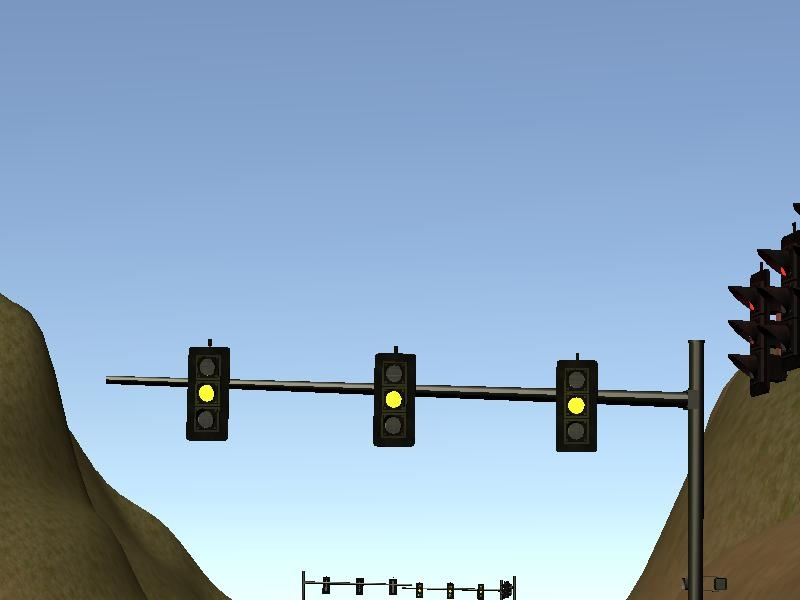YELLOW: (185, 339, 231, 441), (370, 344, 416, 446), (552, 352, 598, 454)
